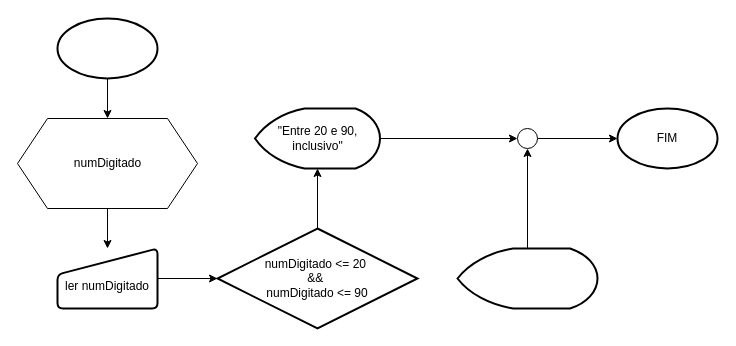
Some shapes in this 736 by 346 pixel diagram are drawn without their labels. The shapes that lost their labels are listed below. From the top down, each one's centre as x and y in pixels, then its label:
pixel 107 48: INÍCIO
pixel 527 278: "Fora do intervalo de 20 e 90"
